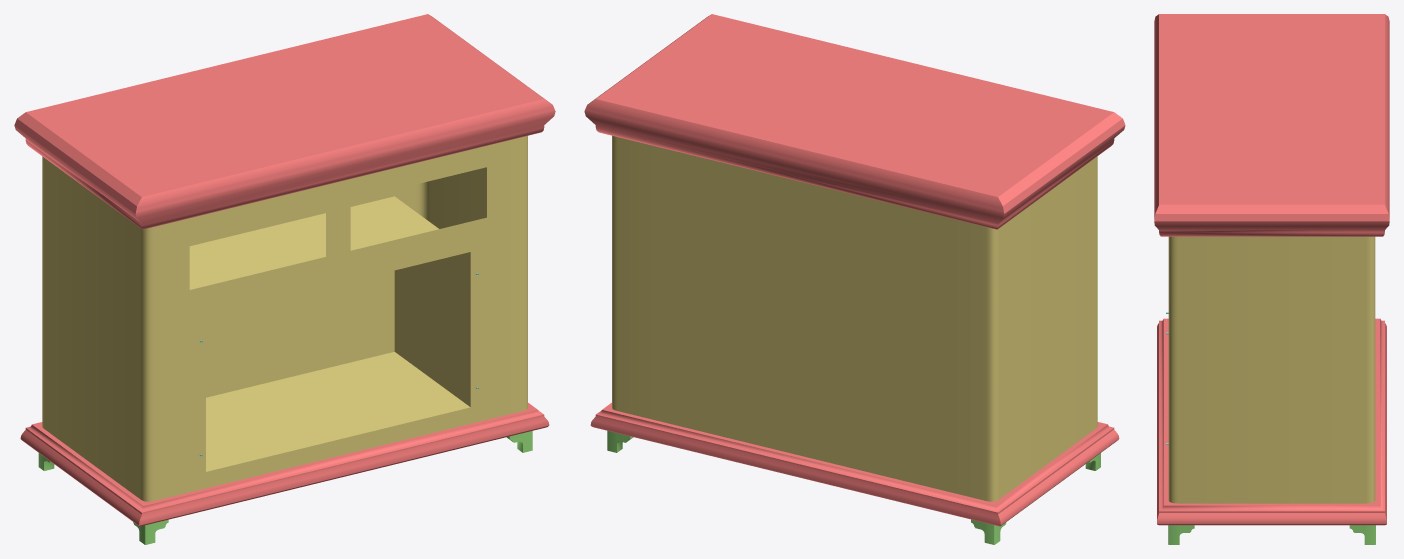
File: base_commode.fbx
The picture shows the model from 3 angles, left to right: view 1: azimuth 30°, elevation 25°; view 2: azimuth 150°, elevation 25°; view 3: azimuth 270°, elevation 25°; orthographic projection. The views are drawn at different scales.
Visible parts, largest first — view 1: Box008; view 2: Box008; view 3: Box008.
Part boxes in pixels (x1,y1,x2,y2): Box008: [14, 14, 555, 544]; Box008: [584, 14, 1125, 544]; Box008: [1154, 14, 1389, 544].
Size of the model in its own units: 1.25 by 1.01 by 0.6264.
